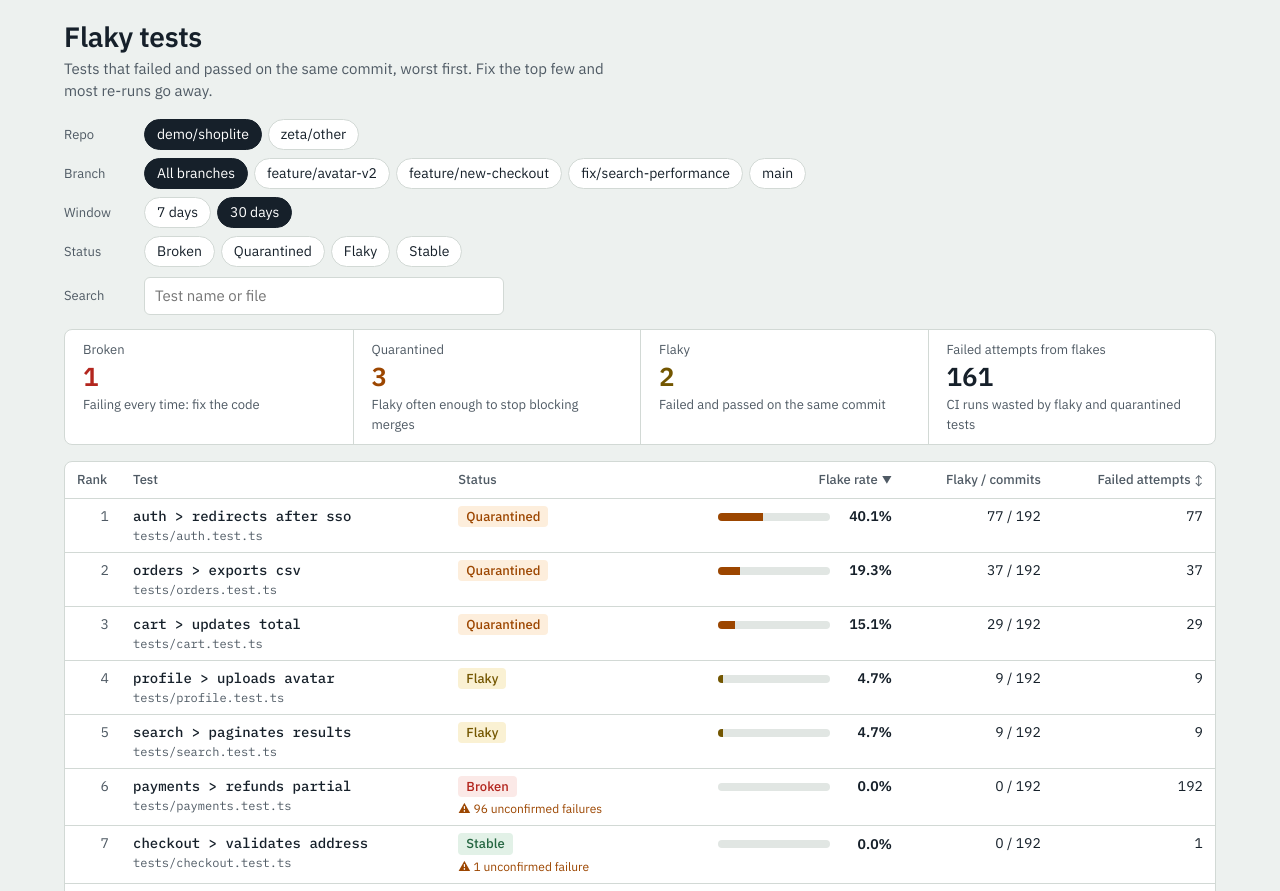
Test case: filter chips › REQ-UI-02: the Quarantined chip lists only quarantined tests and leaves the cards unchanged
The image size is (1280, 891).
Click the button "Quarantined" at (273, 251), box [221,236,325,267]
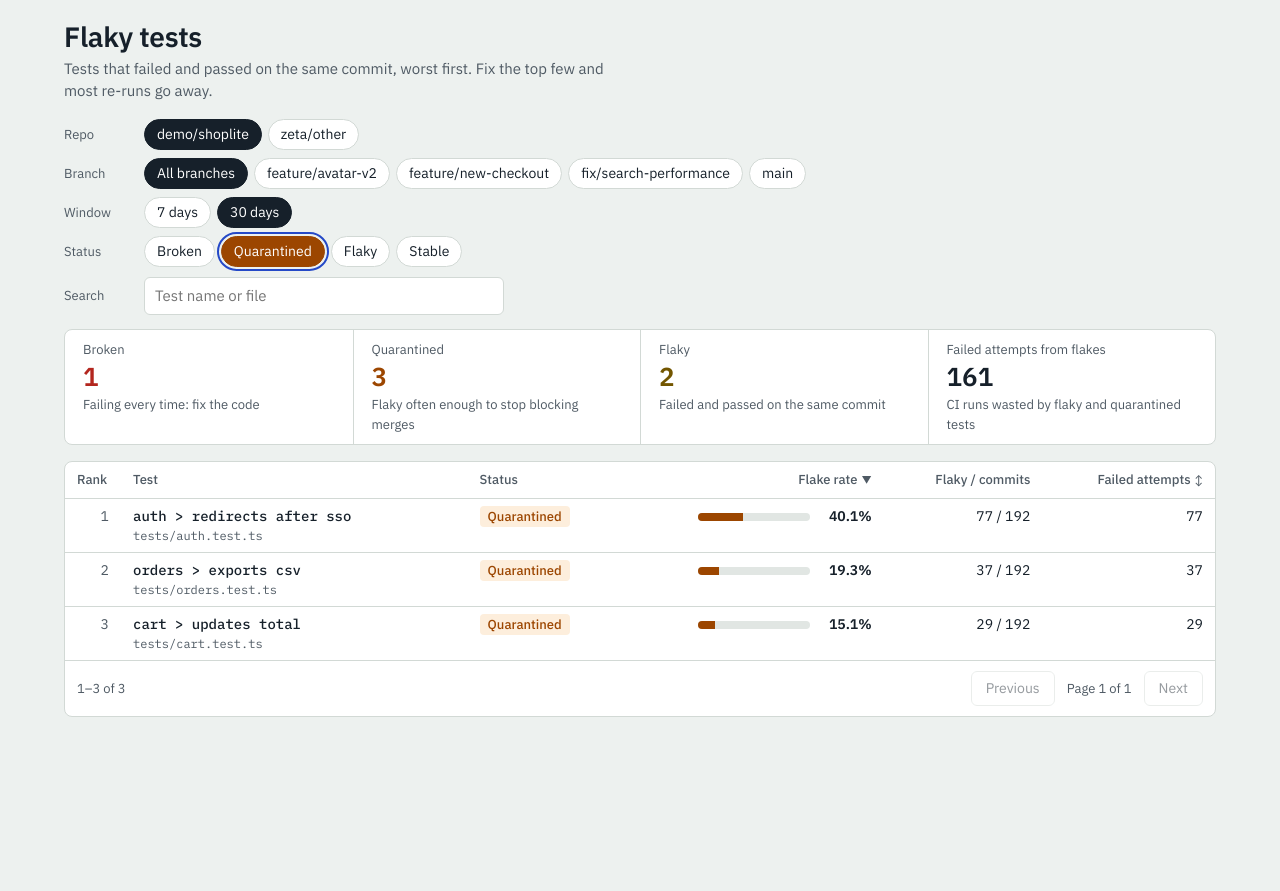
Now the number of rows with test id "test-row" is 3, box [65,498,1215,552]; [65,552,1215,606]; [65,606,1215,660]
